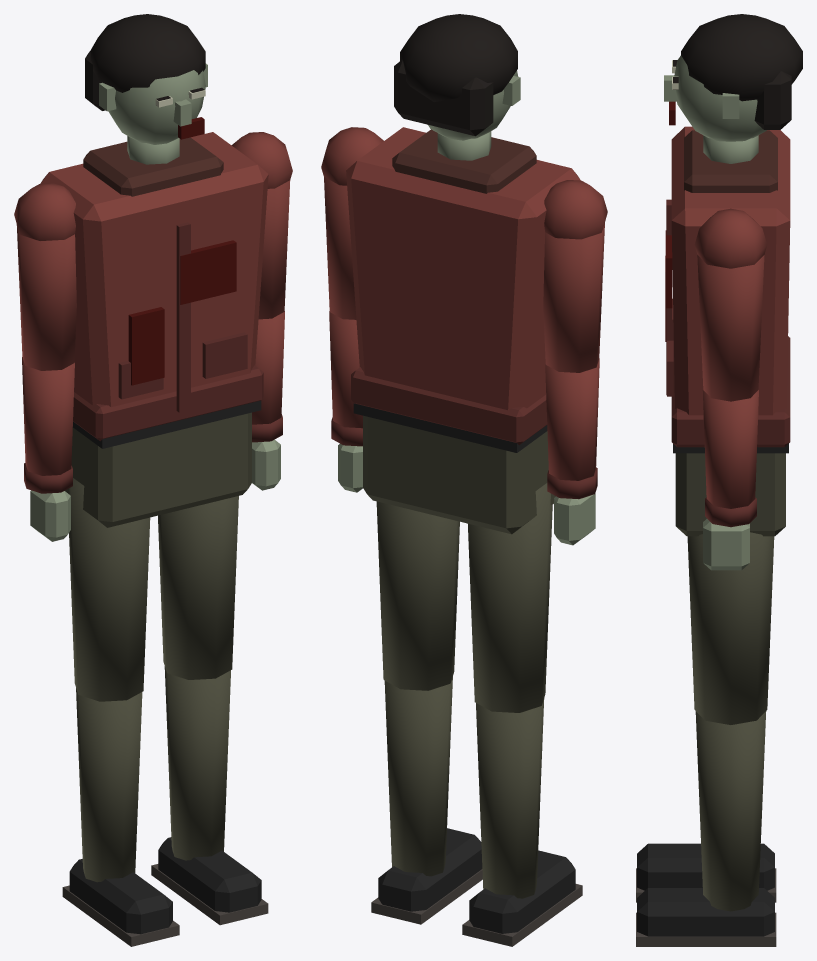
Rendered from zombie_c.glb.
3 renders of one model, left to right at view 1: azimuth 30°, elevation 25°; view 2: azimuth 150°, elevation 25°; view 3: azimuth 270°, elevation 25°, orthographic. The views are drawn at different scales.
Parts seen in each view (by area): view 1: Torso, ShinR, ShinL, Hips, LegR, Head, LegL, ArmR, ForearmR, ArmL, ForearmL; view 2: Torso, ShinR, Hips, ShinL, LegR, Head, LegL, ArmR, ForearmR, ArmL, ForearmL; view 3: Torso, ShinL, Head, LegL, ArmL, ForearmL, Hips, ShinR.
Boxes of the visible parts, x1,y1,x2,y2 form: Torso: (40, 132, 268, 441); ShinR: (62, 688, 179, 946); ShinL: (151, 666, 268, 925); Hips: (65, 400, 261, 527); LegR: (69, 478, 150, 701); Head: (85, 14, 207, 164); LegL: (158, 496, 238, 679); ArmR: (14, 183, 76, 370); ForearmR: (22, 357, 74, 541); ArmL: (231, 132, 292, 319); ForearmL: (252, 311, 284, 490); Torso: (346, 127, 580, 444); ShinR: (462, 698, 582, 946); Hips: (353, 403, 555, 534); ShinL: (371, 676, 482, 924); LegR: (468, 483, 552, 712); Head: (394, 14, 520, 160); LegL: (376, 501, 459, 690); ArmR: (543, 180, 607, 372); ForearmR: (545, 358, 599, 545); ArmL: (321, 127, 383, 319); ForearmL: (329, 311, 362, 492); Torso: (665, 126, 790, 447); ShinL: (636, 711, 776, 946); Head: (664, 14, 802, 163); LegL: (687, 532, 774, 724); ArmL: (694, 208, 767, 401); ForearmL: (702, 390, 758, 570); Hips: (673, 443, 788, 536); ShinR: (636, 843, 776, 902).
Bounding box in the file's own units: 0.582 × 1.78 × 0.3026.
